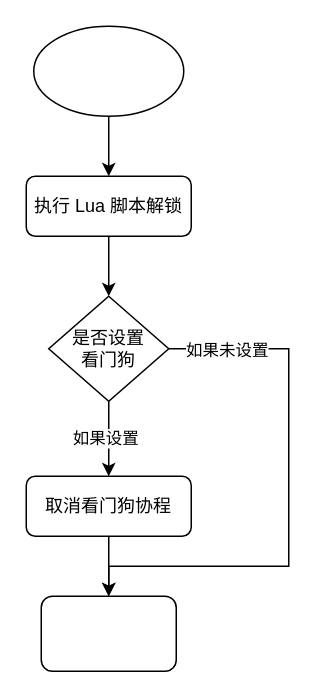
This 327x698 diagram has some shape labels left out. The centre of each missing label's shape, as x and y in pixels:
"解锁流程" goes at (108,70).
"解锁结束 返回结果" goes at (108,633).
